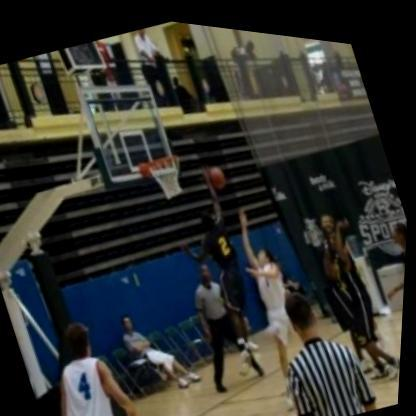basketball: (201, 153, 235, 190)
